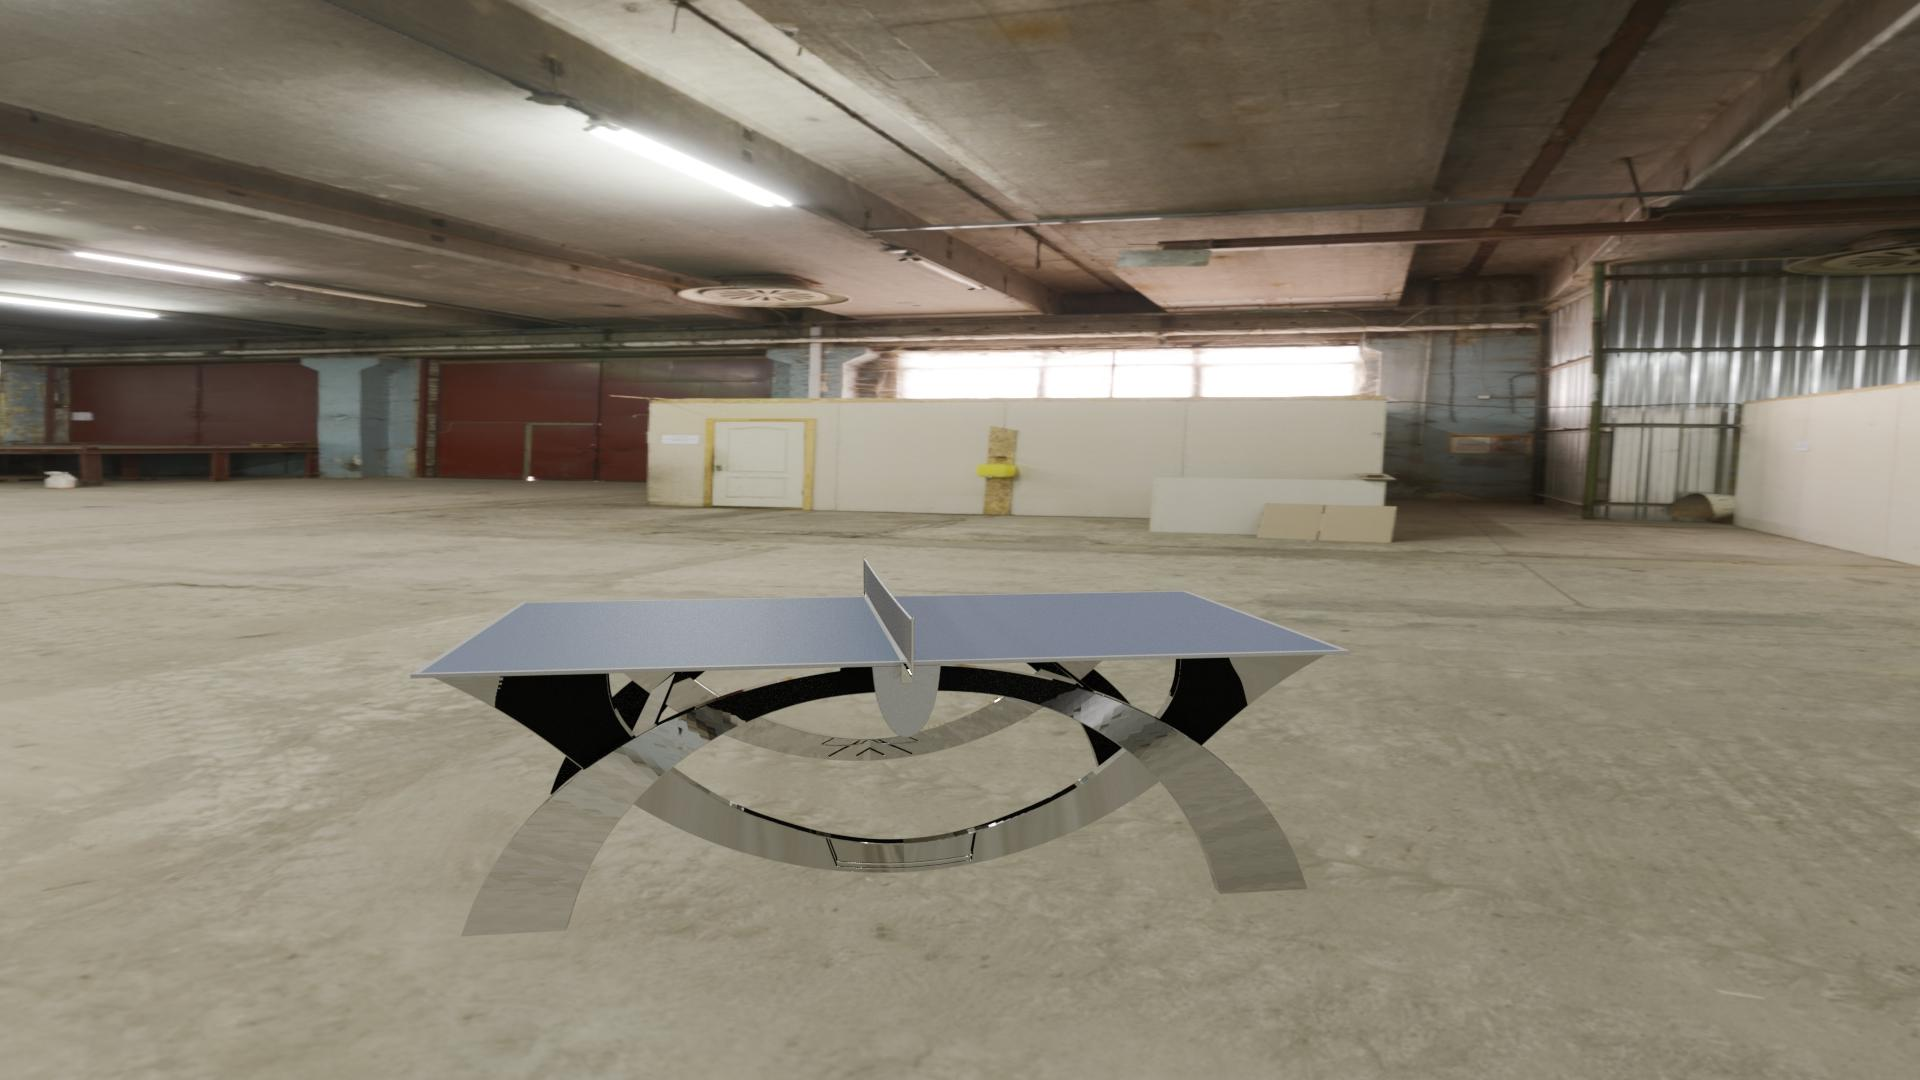table: (419, 592, 1341, 673)
